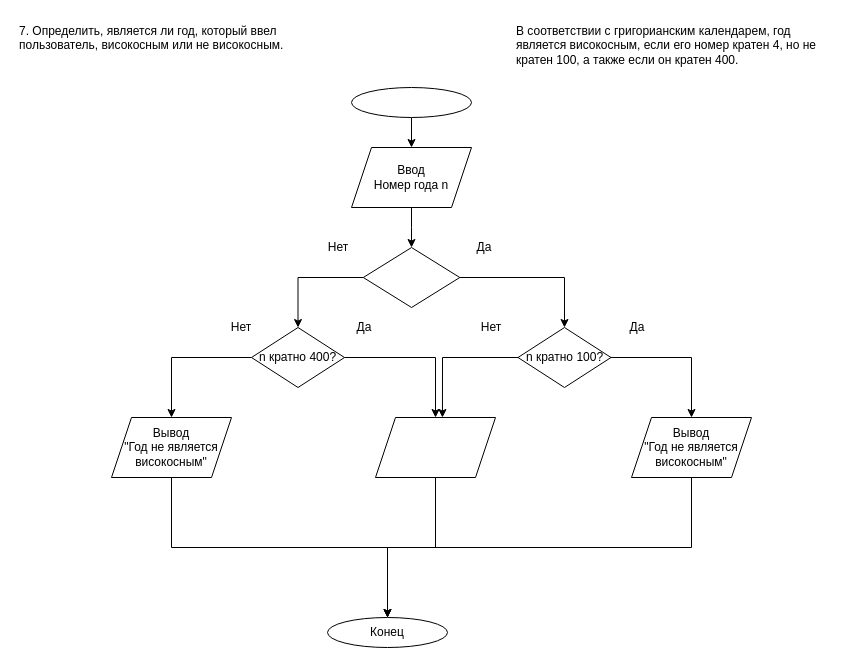
The diagram is 861 pixels wide and 665 high, and some of its shapes have lost their labels. Each missing label, with the centre of its shape:
n кратно 4?: [411,277]
Вывод "Год является високосным": [435,447]
Начало: [411,102]
